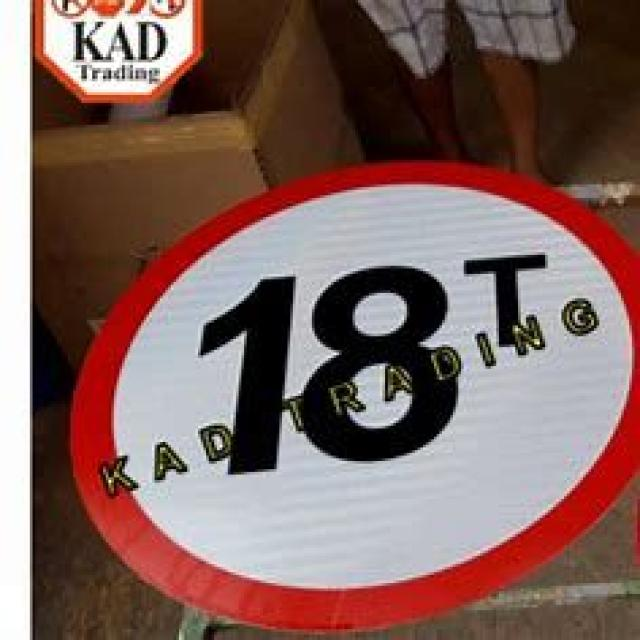load_limit: (65, 160, 637, 635)
